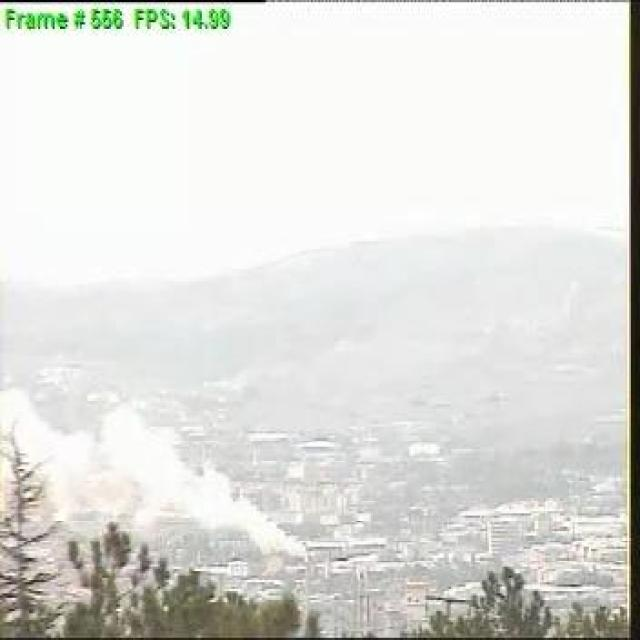Smoke: (44, 406, 304, 544)
